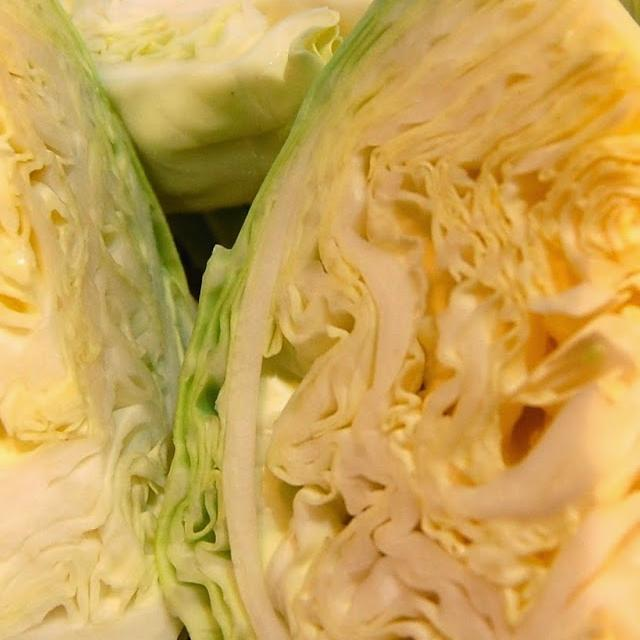cabbage: (46, 0, 373, 211)
